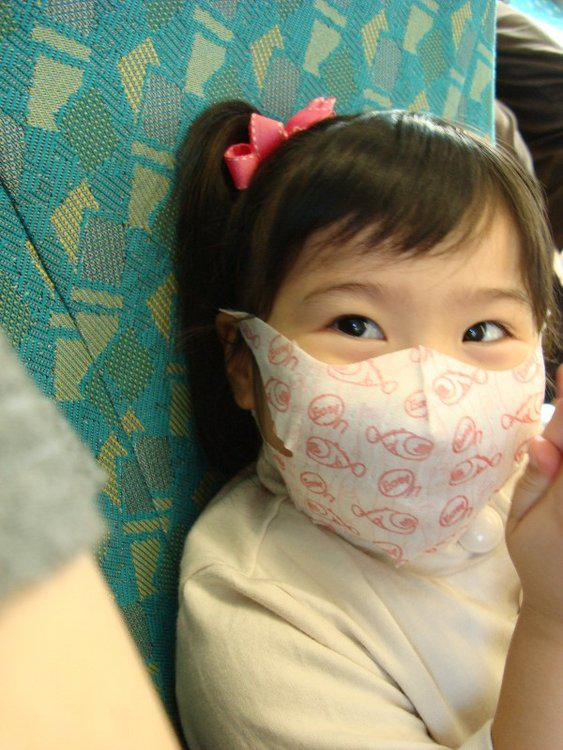OK: (271, 263, 539, 531)
